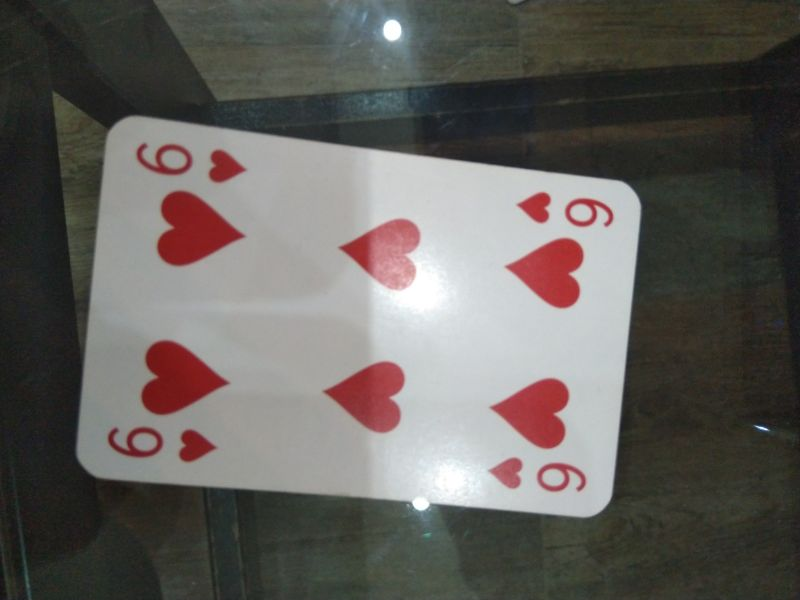6h: (132, 136, 250, 187), (106, 424, 222, 464), (514, 190, 617, 234), (486, 454, 590, 497)
